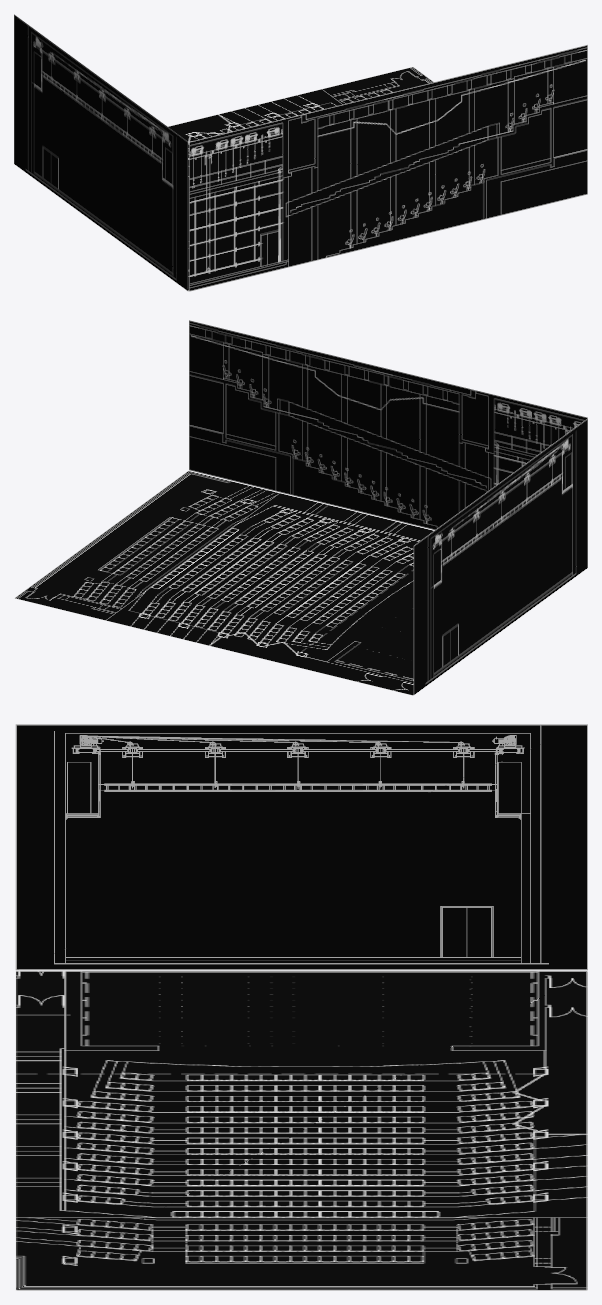
File: planes.glb
The picture shows the model from 3 angles, top to bottom: view 1: azimuth 30°, elevation 25°; view 2: azimuth 150°, elevation 25°; view 3: azimuth 270°, elevation 25°; orthographic projection. The views are drawn at different scales.
Parts seen in each view (by area): view 1: side.001, front.001, top.001; view 2: top.001, side.001, front.001; view 3: top.001, front.001.
Boxes of the visible parts, x1,y1,x2,y2 form: side.001: [189, 44, 587, 291]; front.001: [14, 14, 188, 290]; top.001: [168, 67, 433, 291]; top.001: [14, 470, 433, 695]; side.001: [189, 320, 587, 529]; front.001: [413, 418, 587, 695]; top.001: [15, 971, 587, 1290]; front.001: [15, 724, 587, 970].
Size of the model in its own units: 32.12 by 11.53 by 24.35.
3 materials, 3 textured.
